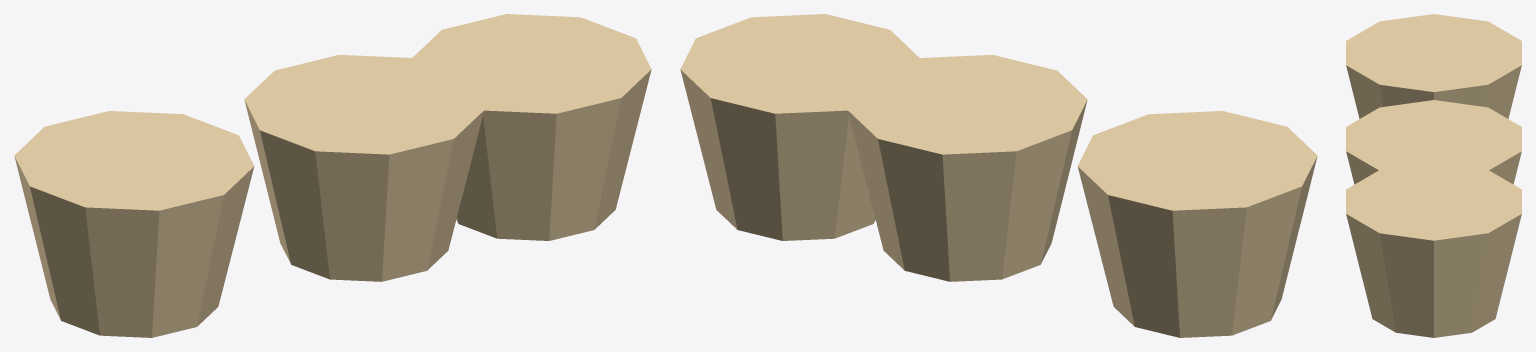
Rendered from Tableware.fbx.
The picture shows the model from 3 angles, left to right: view 1: azimuth 30°, elevation 25°; view 2: azimuth 150°, elevation 25°; view 3: azimuth 270°, elevation 25°; orthographic projection. The views are drawn at different scales.
Visible parts, largest first — view 1: Tableware.005; view 2: Tableware.005; view 3: Tableware.005.
Part boxes in pixels (x1,y1,x2,y2): Tableware.005: (14, 14, 651, 337); Tableware.005: (680, 14, 1317, 337); Tableware.005: (1346, 14, 1521, 337).
Size of the model in its own units: 58 by 13 by 19.02.
